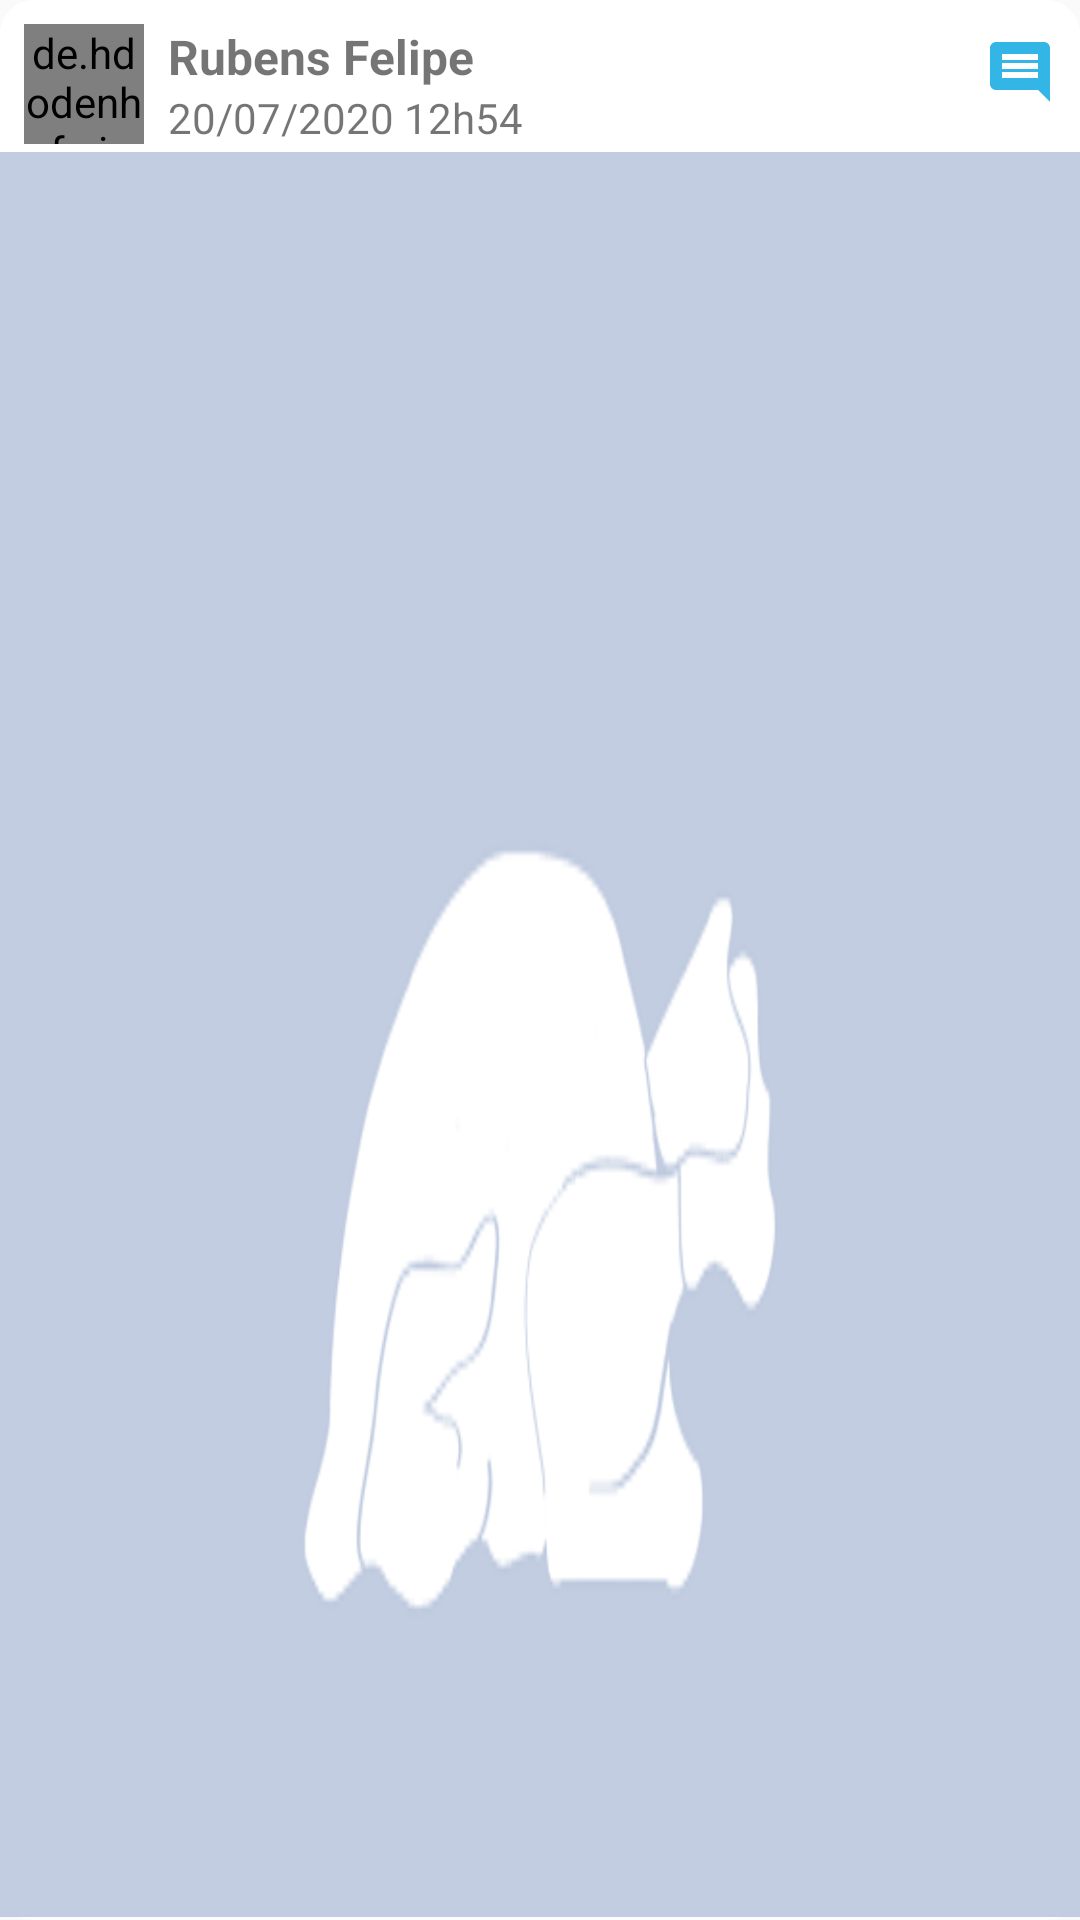

Where icons sit on this 1080px×1920px app screen, as (x1, y1, x2, y2):
comment azul: (990, 42, 1050, 102)
